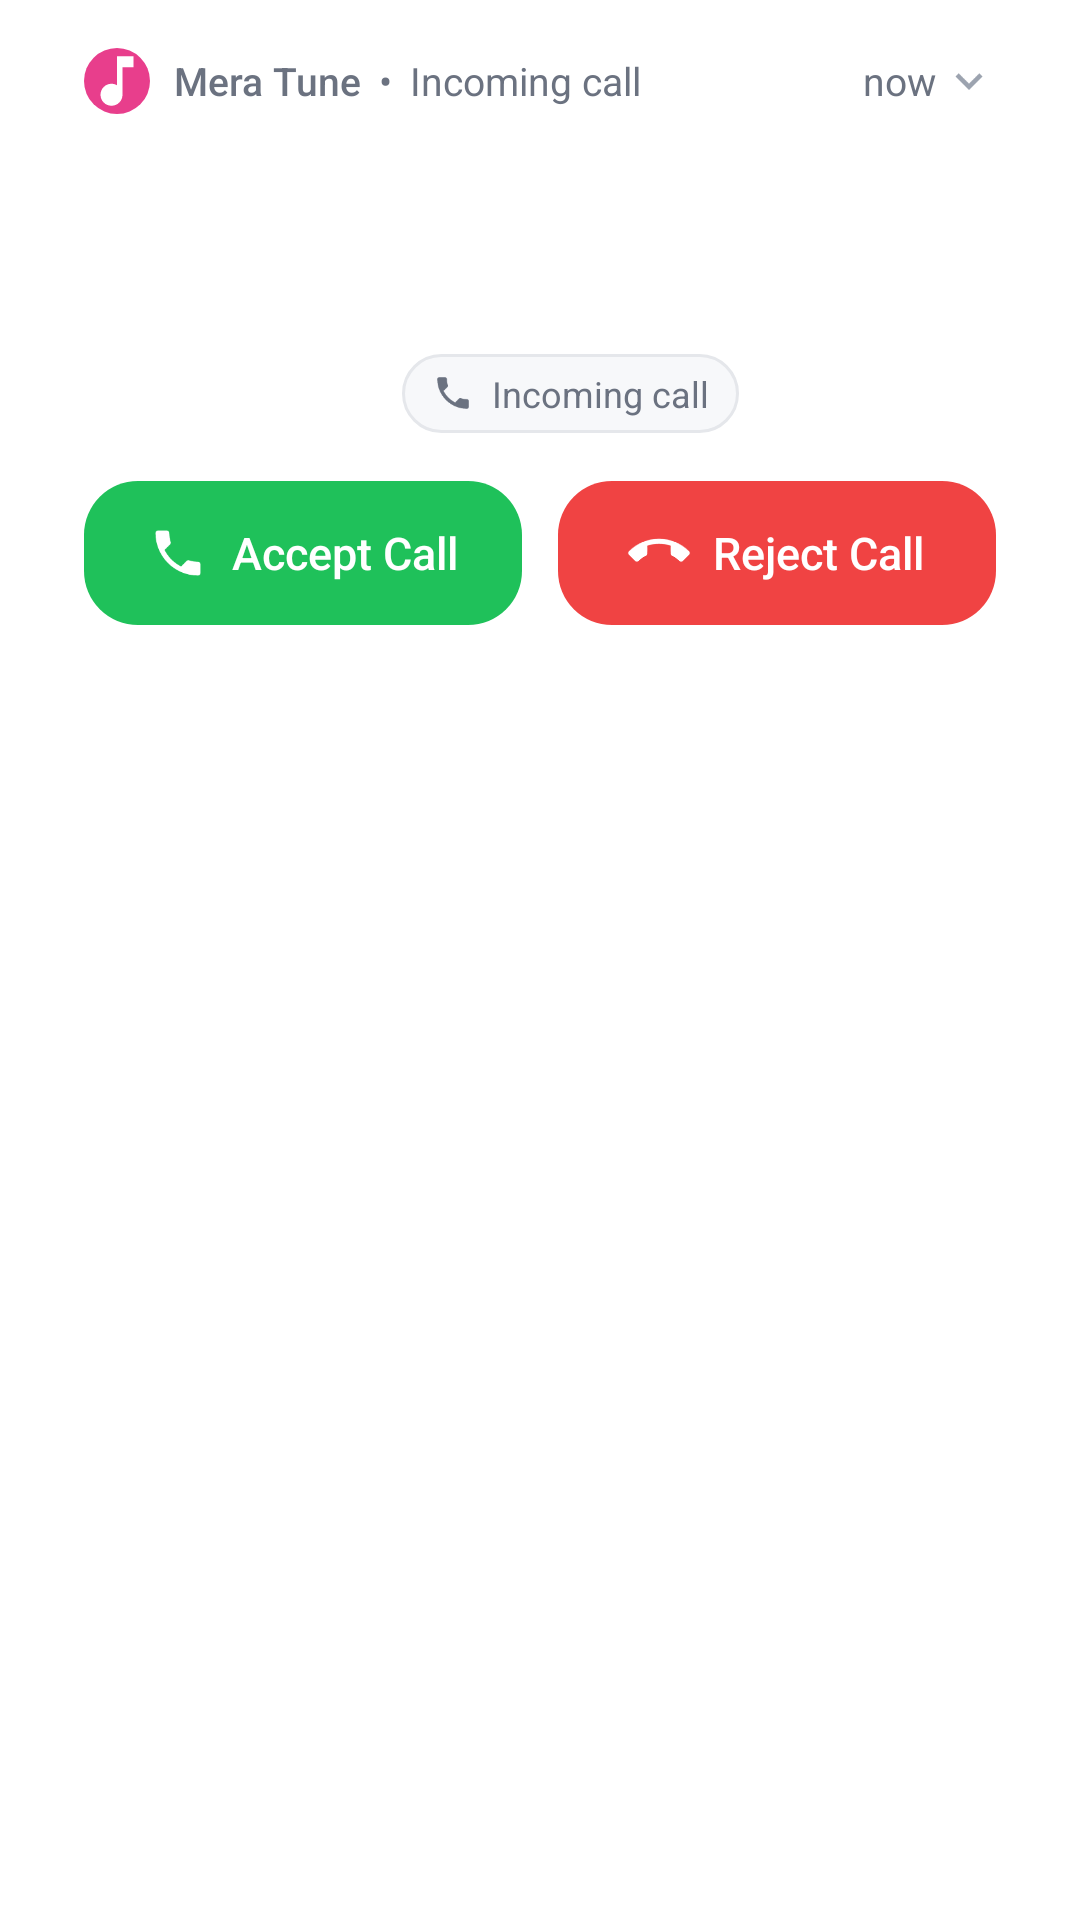

Named icons in this screenshot (1080w x 1920h) and their centers, [x,y]:
expand more: [969,81]
